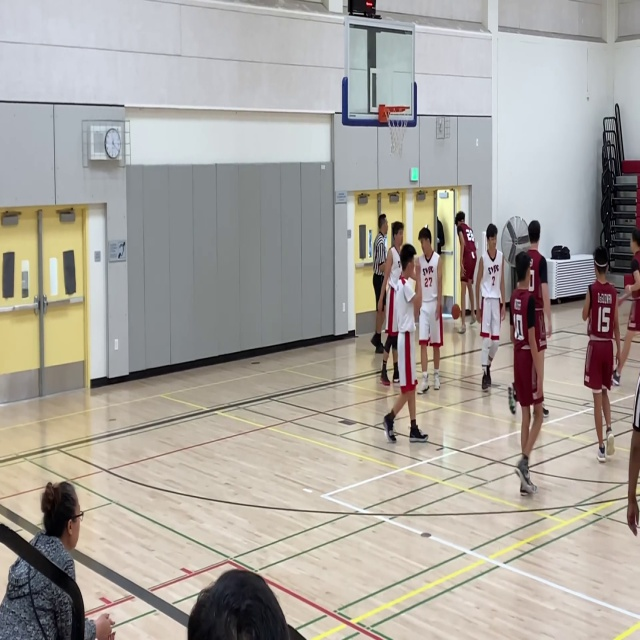Basketball: (451, 304, 460, 319)
